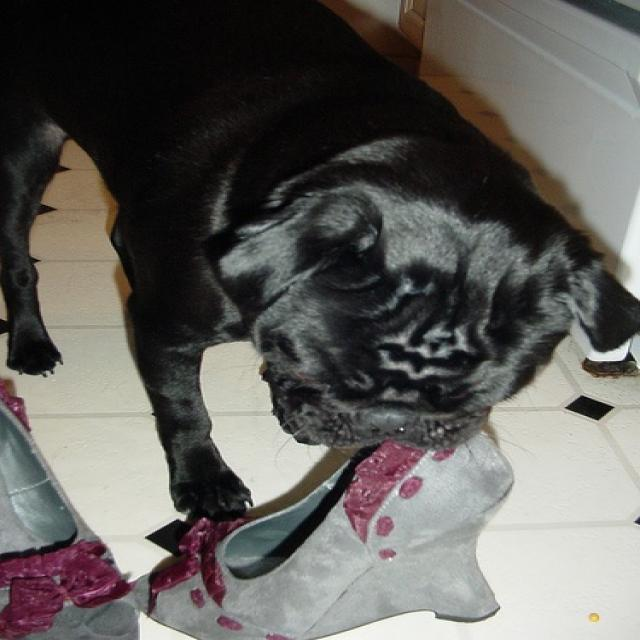dog: (0, 0, 635, 525)
